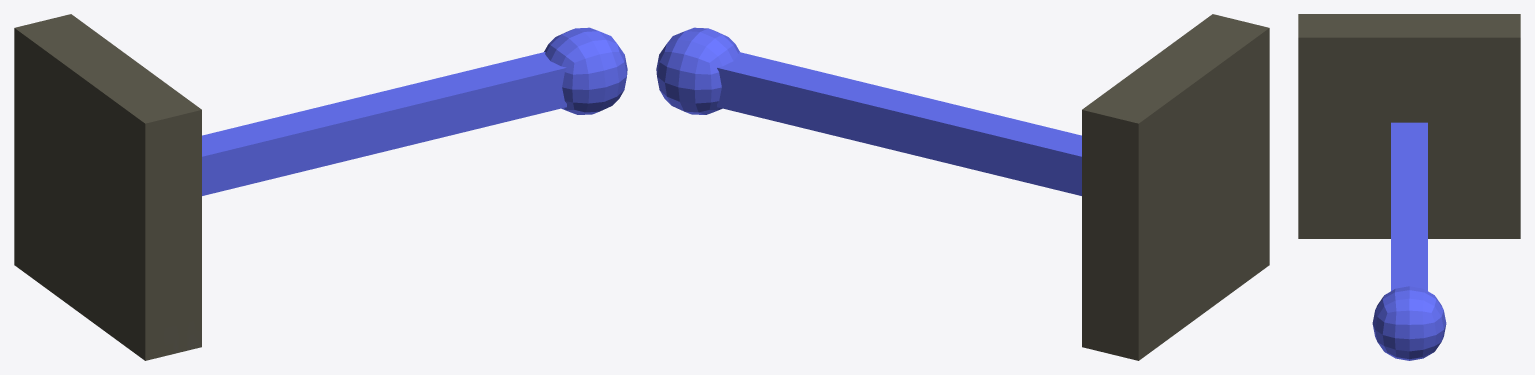
Rendered from ropepin.obj.
The picture shows the model from 3 angles, left to right: view 1: azimuth 30°, elevation 25°; view 2: azimuth 150°, elevation 25°; view 3: azimuth 270°, elevation 25°; orthographic projection. The views are drawn at different scales.
Visible parts, largest first — view 1: 立方体.004; view 2: 立方体.004; view 3: 立方体.004.
Part boxes in pixels (left/top/right/bottom): 立方体.004: left=14, top=14, right=627, bottom=360; 立方体.004: left=656, top=14, right=1269, bottom=360; 立方体.004: left=1298, top=14, right=1520, bottom=360.
Size of the model in its own units: 1.88 by 0.785 by 0.785.
1 material, 1 textured.
